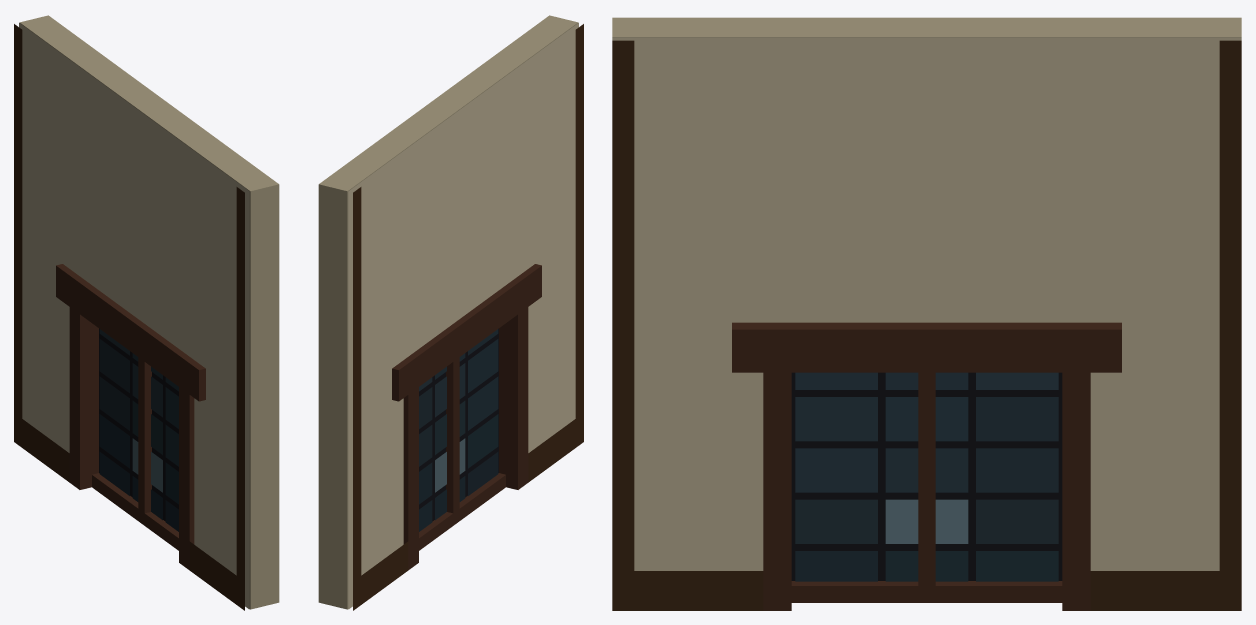
The model's file is wall-halftimber-window-high.glb.
3 views of the same model, side by side, from view 1: azimuth 30°, elevation 25°; view 2: azimuth 150°, elevation 25°; view 3: azimuth 270°, elevation 25° (orthographic). The views are drawn at different scales.
Visible parts, largest first — view 1: wall-halftimber-window-high; view 2: wall-halftimber-window-high; view 3: wall-halftimber-window-high.
Boxes of the visible parts, bbox=[...] form: wall-halftimber-window-high: bbox=[14, 15, 279, 610]; wall-halftimber-window-high: bbox=[318, 15, 583, 610]; wall-halftimber-window-high: bbox=[612, 17, 1241, 610].
Size of the model in its own units: 0.12 by 1 by 1.
